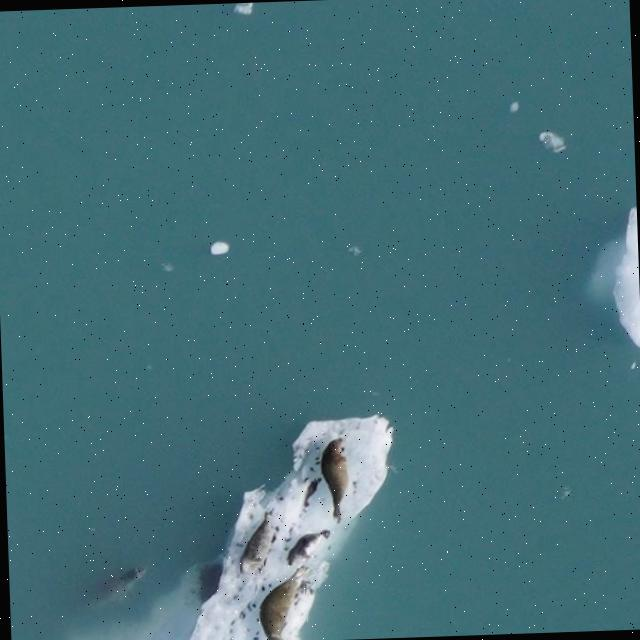seal: (258, 568, 304, 640), (318, 435, 347, 520), (240, 513, 276, 575), (286, 531, 330, 564)
